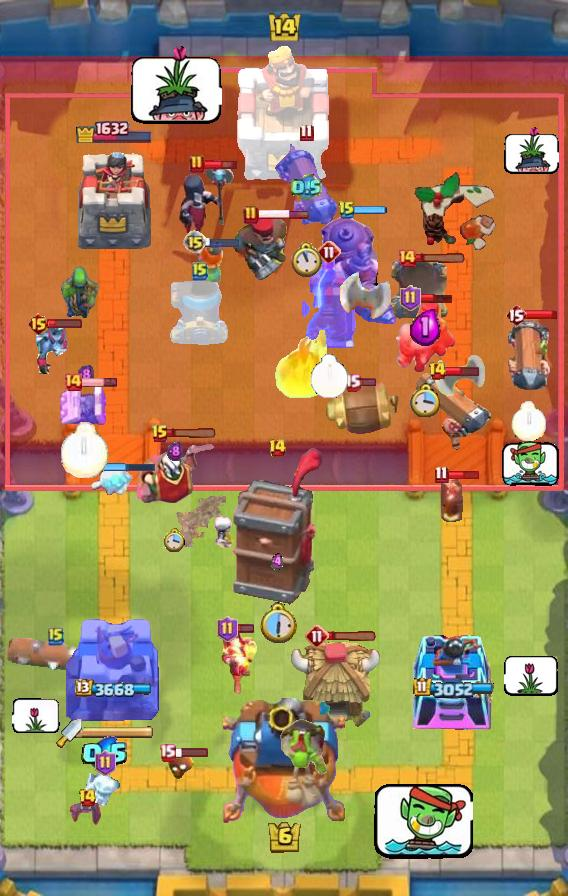axe: (338, 253, 392, 321), (434, 355, 486, 415)
bar: (104, 461, 156, 473), (256, 209, 310, 220), (326, 631, 378, 642), (166, 428, 218, 439), (415, 253, 467, 264), (203, 158, 238, 171), (173, 746, 209, 758), (446, 469, 481, 481), (445, 365, 480, 377), (81, 377, 118, 388), (47, 318, 83, 329), (418, 293, 454, 304), (204, 237, 240, 248), (524, 309, 558, 320), (354, 205, 388, 215), (236, 623, 255, 634), (358, 377, 377, 387)
bar-level: (305, 624, 329, 648), (317, 240, 341, 264), (183, 230, 207, 254), (27, 312, 50, 336), (95, 750, 116, 776), (217, 616, 238, 642), (400, 285, 421, 311), (505, 303, 527, 327), (63, 372, 83, 392), (397, 248, 417, 268), (78, 788, 97, 808), (268, 438, 287, 458), (428, 361, 447, 381), (151, 424, 169, 444), (338, 200, 356, 220), (159, 743, 176, 762), (344, 373, 361, 392), (48, 626, 64, 646), (192, 261, 208, 281), (243, 205, 259, 225), (189, 154, 205, 174), (434, 465, 449, 484), (299, 123, 314, 142)
barbarian-barrel: (322, 382, 402, 436)
bat: (70, 799, 104, 827)
clock: (61, 422, 109, 478), (310, 354, 349, 399), (258, 602, 297, 644), (511, 401, 546, 441), (291, 242, 322, 278), (410, 383, 441, 417), (164, 527, 186, 552)
dagger-duchess-tower: (66, 611, 162, 731)
dagger-duchess-tower-bar: (82, 726, 154, 740)
dirt: (162, 496, 226, 547)
elixir: (81, 736, 129, 772), (410, 307, 441, 346), (291, 174, 322, 201), (77, 364, 94, 385), (167, 441, 183, 462), (271, 553, 283, 571)
emote: (371, 781, 473, 864), (128, 42, 222, 126), (503, 125, 559, 175), (502, 441, 560, 487), (504, 655, 558, 696), (12, 698, 60, 733)
fire-spirit: (439, 476, 465, 526), (166, 749, 194, 781)
goblin-ball: (278, 716, 328, 776)
hunter: (230, 212, 290, 284)
ice-spirit: (82, 764, 128, 808), (90, 464, 134, 498)
king-tower: (223, 698, 345, 826), (230, 43, 338, 181)
minion: (31, 328, 75, 374)
mortar: (387, 256, 451, 322), (170, 281, 230, 345)
night-witch: (177, 162, 237, 236)
queen-tower: (71, 145, 157, 256), (412, 623, 494, 731)
ram-rider: (393, 296, 457, 376)
skeleton: (212, 516, 238, 550)
spear-goblin: (60, 264, 100, 322)
tesla: (59, 378, 111, 428)
the-log: (6, 638, 106, 674)
tower-bar: (75, 118, 154, 143), (413, 677, 494, 698), (75, 679, 154, 699)
valkyrie: (190, 242, 228, 294)
wizard: (218, 628, 260, 698)
